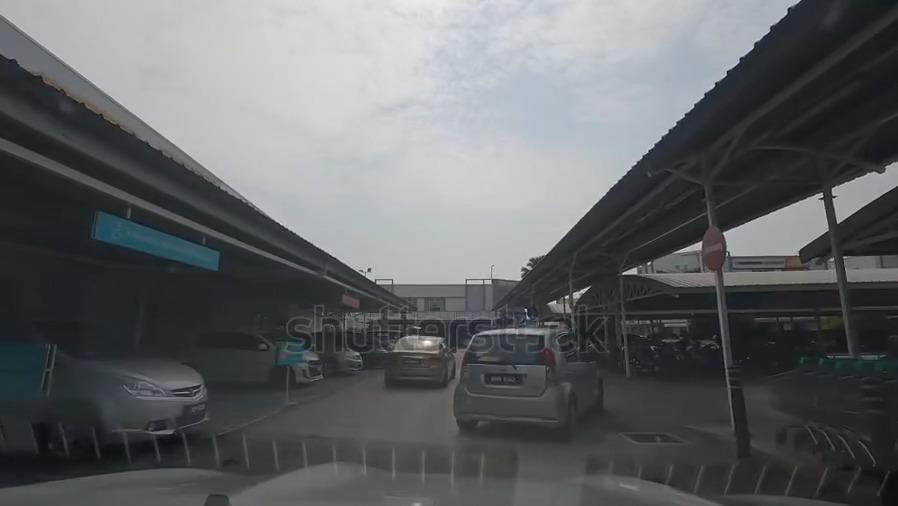car: (3, 322, 215, 439), (451, 333, 598, 431), (186, 332, 326, 388), (381, 335, 457, 389), (309, 345, 365, 374)
manhole: (623, 427, 677, 447)
wheel: (49, 405, 99, 454), (269, 364, 293, 390), (322, 357, 337, 374)
